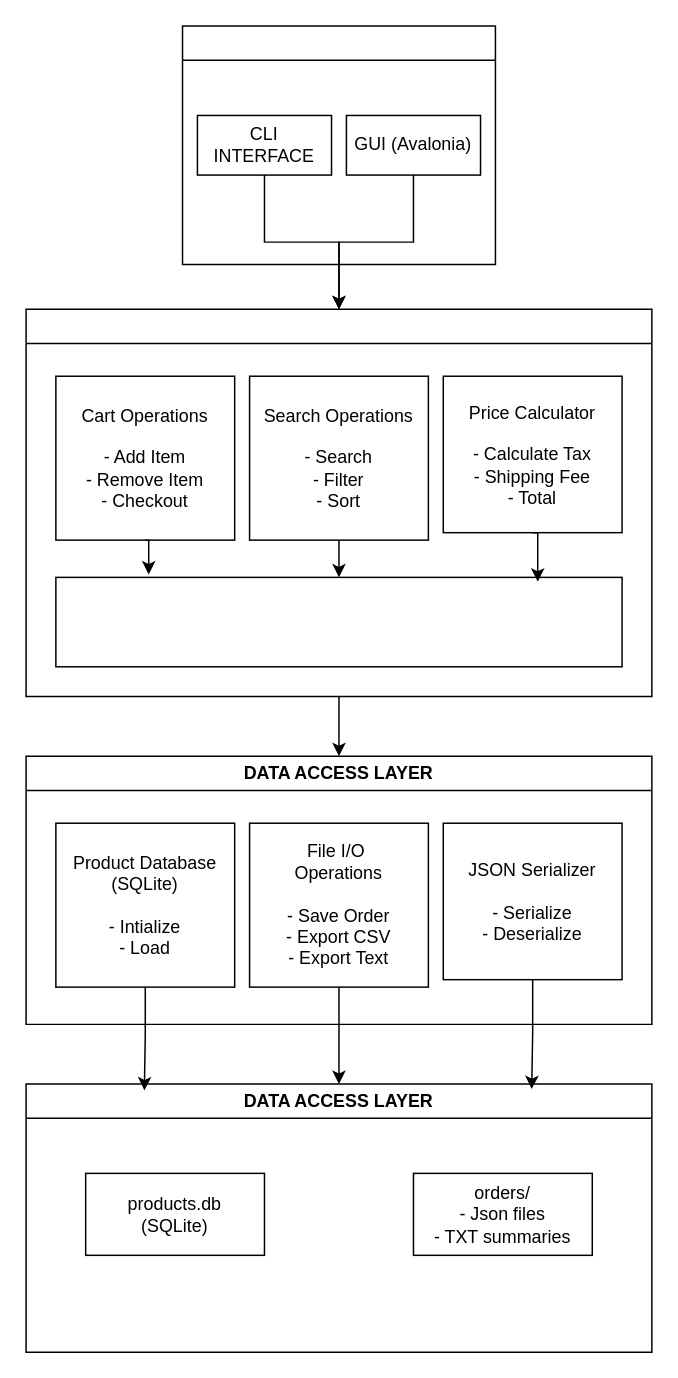
This 678x1378 diagram has some shape labels left out. The box of each missing label's shape, as (x1, y1, x2, y2) in pixels:
BUSINESS LOGIC LAYER: (25, 308, 652, 697)
Discount Engine: (54, 576, 622, 667)
USER INTERFACE LAYER: (181, 25, 495, 264)
